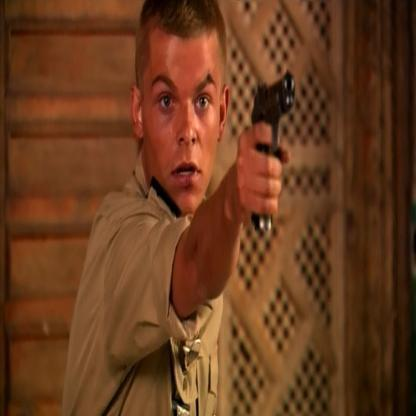gun: (251, 53, 303, 249)
